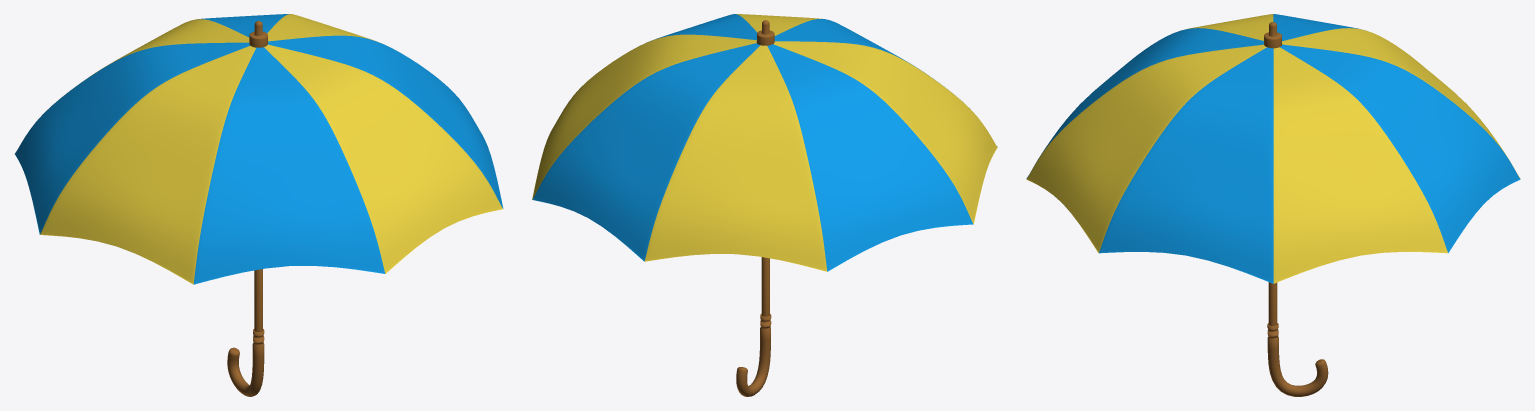
The model's file is umbrella.fbx.
3 views of the same model, side by side, from view 1: azimuth 30°, elevation 25°; view 2: azimuth 150°, elevation 25°; view 3: azimuth 270°, elevation 25° (orthographic). The views are drawn at different scales.
Parts seen in each view (by area): view 1: Circle, NurbsPath, Cylinder; view 2: Circle, NurbsPath, Cylinder; view 3: Circle, NurbsPath, Cylinder.
Boxes of the visible parts, left/top/right/bottom form: Circle: left=14, top=14, right=503, bottom=284; NurbsPath: left=227, top=329, right=264, bottom=396; Cylinder: left=249, top=21, right=267, bottom=331; Circle: left=532, top=14, right=997, bottom=271; NurbsPath: left=736, top=313, right=771, bottom=396; Cylinder: left=757, top=20, right=774, bottom=316; Circle: left=1026, top=14, right=1520, bottom=283; NurbsPath: left=1267, top=323, right=1328, bottom=396; Cylinder: left=1264, top=22, right=1281, bottom=325.
Size of the model in its own units: 499 by 416 by 499.
